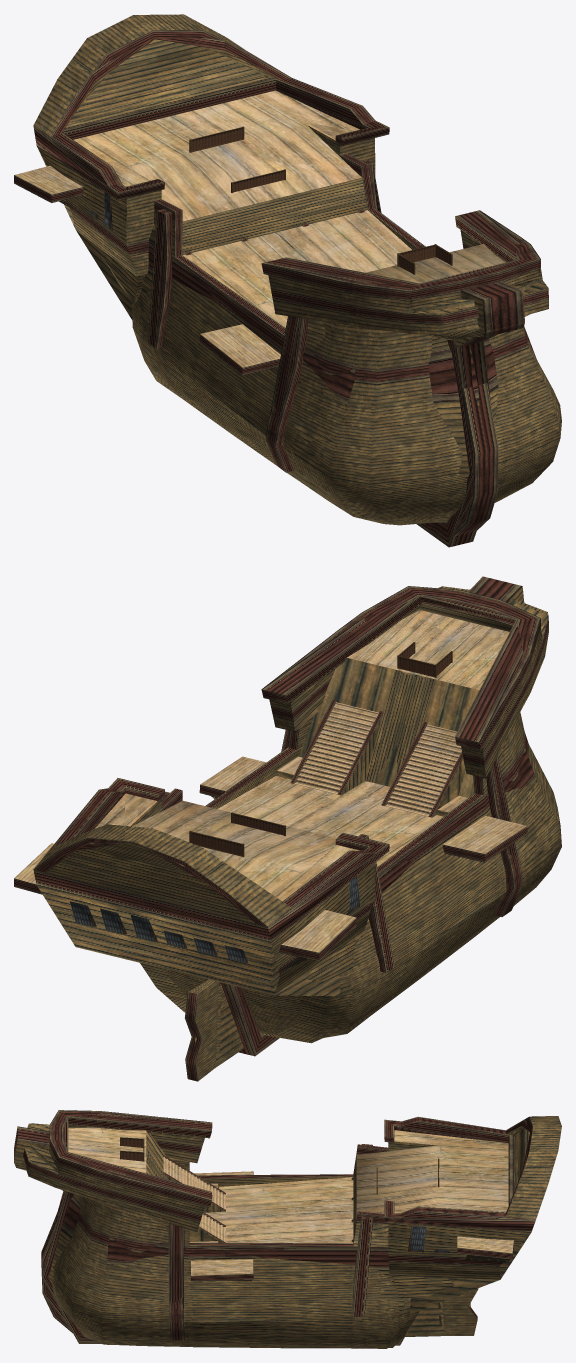
The model's file is pir_m_shp_gal_light.fbx.
3 views of the same model, one above another, from view 1: azimuth 30°, elevation 25°; view 2: azimuth 150°, elevation 25°; view 3: azimuth 270°, elevation 25° (orthographic). The views are drawn at different scales.
Parts seen in each view (by area): view 1: hull_bottom, deck_cabin.003, hull_bottom1, deck_main.003, cabin_arch_front.003, panel_deck_wall.003, cabin_stripe_a1.001, keel_stripe_c.002, cabin_arch, hull_panel_front1, hull_stripe_a.003, hull_panel_front (+38 smaller); view 2: hull_bottom, cabin_hull_panels.003, deck_cabin.003, deck_main.003, stripe_a_top.002, hull_bottom1, deck_upper.003, cabin_arch_back.003, deck_vertical_front6.003, cabin_arch, cabin_stripe_a2.001, deck_vertical_front6 (+47 smaller); view 3: hull_bottom, deck_cabin.003, deck_main.003, hull_bottom1, cabin_hull_panels.002, hull_stripe_a.003, stripe_a_top.002, cabin_arch, cabin_stripe_a1.001, hull_panel_front1, deck_upper.003, stripe_a_top (+44 smaller).
Part boxes in pixels (bbox=[...]): hull_bottom: bbox=[132, 290, 561, 484]; deck_cabin.003: bbox=[74, 90, 361, 221]; hull_bottom1: bbox=[133, 328, 560, 525]; deck_main.003: bbox=[182, 210, 411, 327]; cabin_arch_front.003: bbox=[66, 39, 265, 126]; panel_deck_wall.003: bbox=[182, 178, 367, 255]; cabin_stripe_a1.001: bbox=[35, 78, 375, 185]; keel_stripe_c.002: bbox=[417, 281, 524, 547]; cabin_arch: bbox=[33, 14, 244, 136]; hull_panel_front1: bbox=[312, 321, 524, 369]; hull_stripe_a.003: bbox=[148, 240, 535, 405]; hull_panel_front: bbox=[297, 340, 538, 408]; hull_bottom: bbox=[339, 763, 561, 992]; cabin_hull_panels.003: bbox=[37, 847, 333, 995]; deck_cabin.003: bbox=[95, 793, 359, 901]; deck_main.003: bbox=[218, 776, 443, 866]; stripe_a_top.002: bbox=[261, 596, 523, 750]; hull_bottom1: bbox=[166, 847, 561, 1037]; deck_upper.003: bbox=[347, 610, 509, 689]; cabin_arch_back.003: bbox=[45, 842, 255, 923]; deck_vertical_front6.003: bbox=[298, 658, 479, 797]; cabin_arch: bbox=[33, 824, 291, 926]; cabin_stripe_a2.001: bbox=[33, 845, 387, 941]; deck_vertical_front6: bbox=[365, 670, 434, 782]; hull_bottom: bbox=[52, 1237, 410, 1322]; deck_cabin.003: bbox=[356, 1130, 508, 1217]; deck_main.003: bbox=[205, 1177, 353, 1243]; hull_bottom1: bbox=[52, 1281, 400, 1348]; cabin_hull_panels.002: bbox=[388, 1141, 530, 1279]; hull_stripe_a.003: bbox=[53, 1192, 389, 1270]; stripe_a_top.002: bbox=[64, 1113, 212, 1200]; cabin_arch: bbox=[506, 1116, 561, 1219]; cabin_stripe_a1.001: bbox=[400, 1116, 532, 1219]; hull_panel_front1: bbox=[80, 1196, 189, 1245]; deck_upper.003: bbox=[68, 1127, 146, 1173]; stripe_a_top: bbox=[58, 1110, 211, 1207].
Size of the model in its own units: 6315 by 5773 by 13330.
2 materials, 2 textured.
